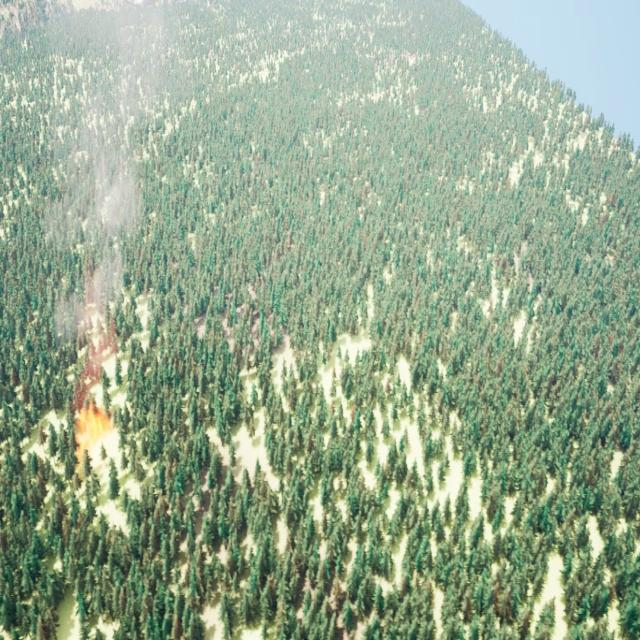fire: (74, 399, 110, 463)
smoke: (48, 0, 168, 356)
